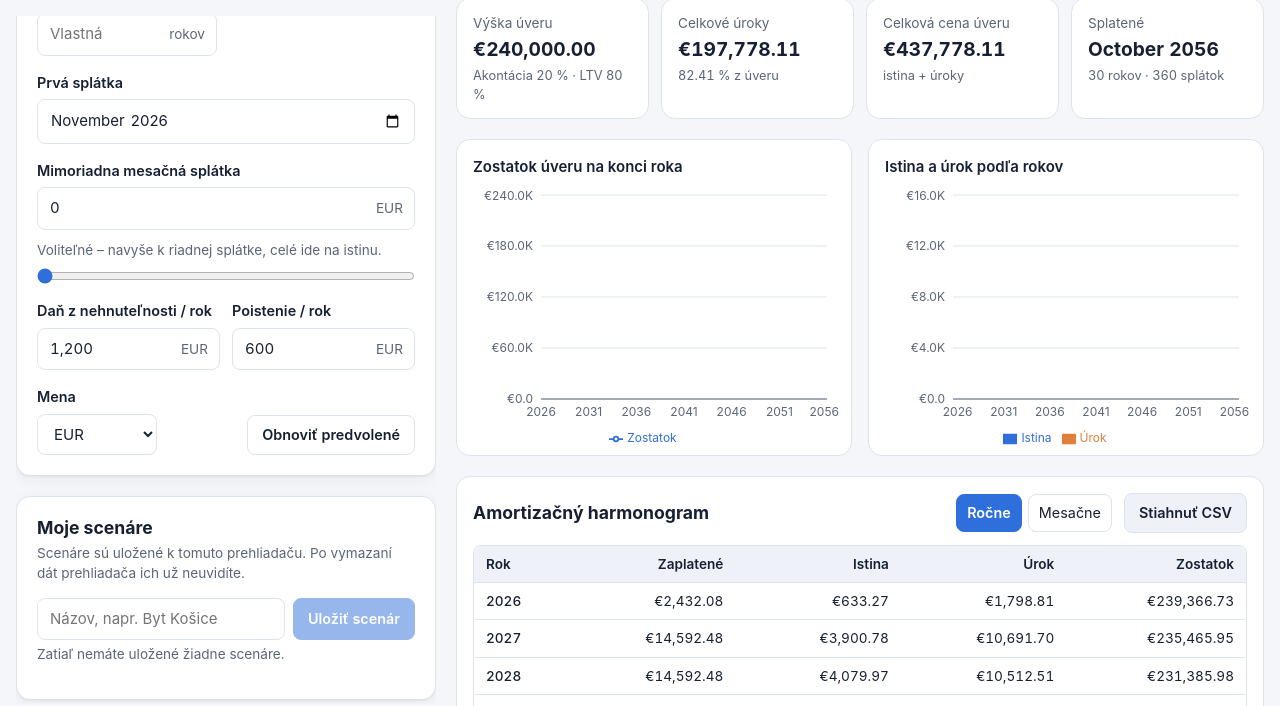
Test: CalculatorPage › uloží scenár a zobrazí ho v zozname (F11)
(page scrolled)
Type "Byt Košice" into the field with placeholder "Názov, napr. Byt Košice" at (161, 619), box x1=37 y1=598 x2=285 y2=641
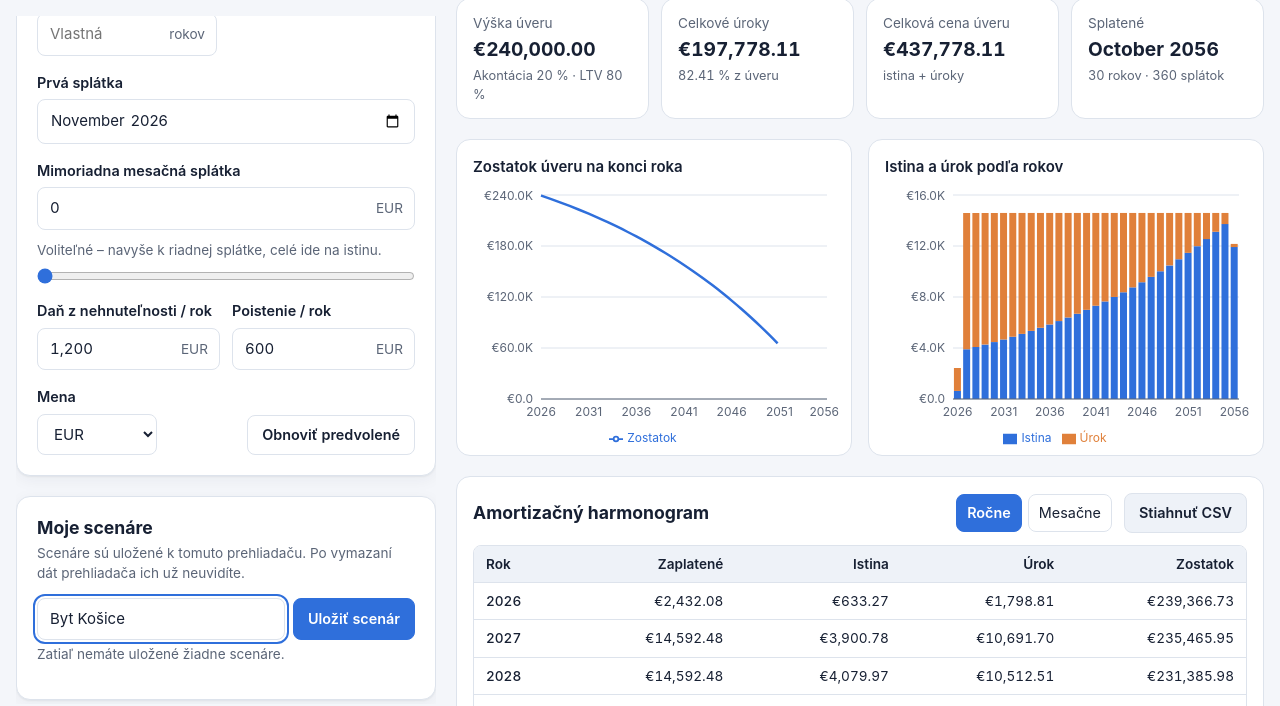
Click the button "Uložiť scenár" at (354, 619), box x1=293 y1=598 x2=415 y2=641
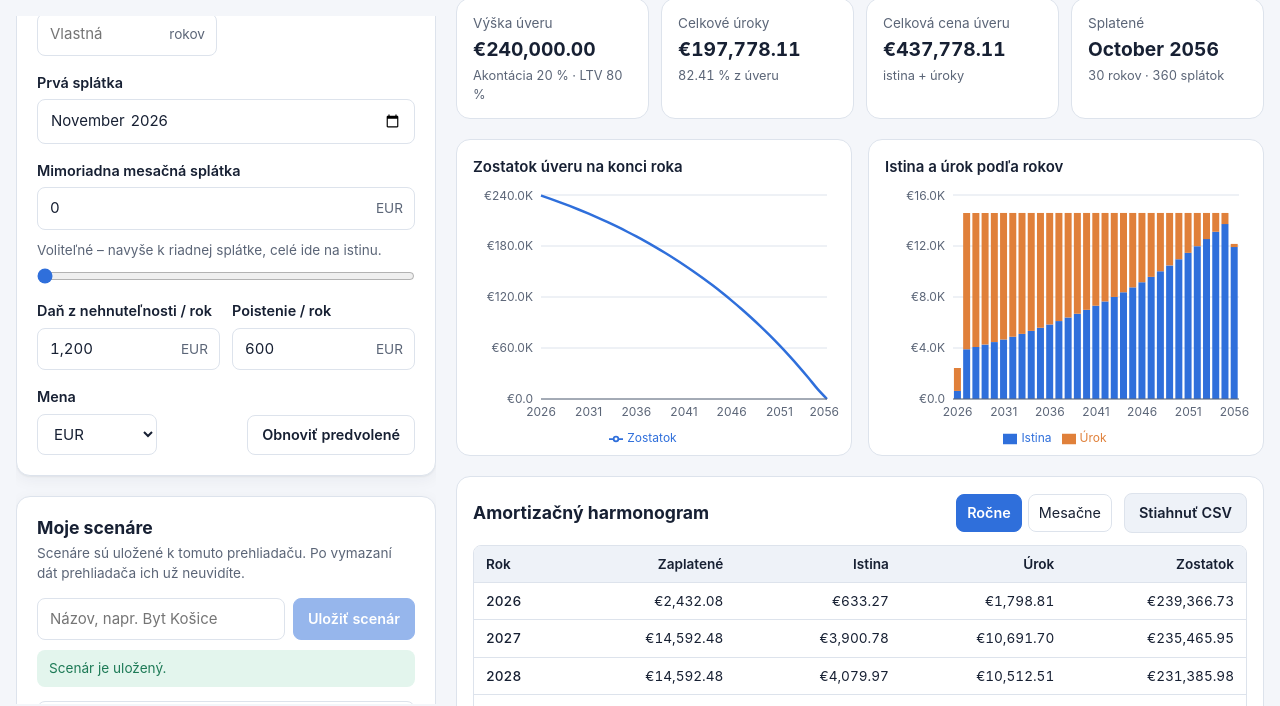
Expected: the message reads "Scenár je uložený.", x1=49 y1=661 x2=166 y2=677
